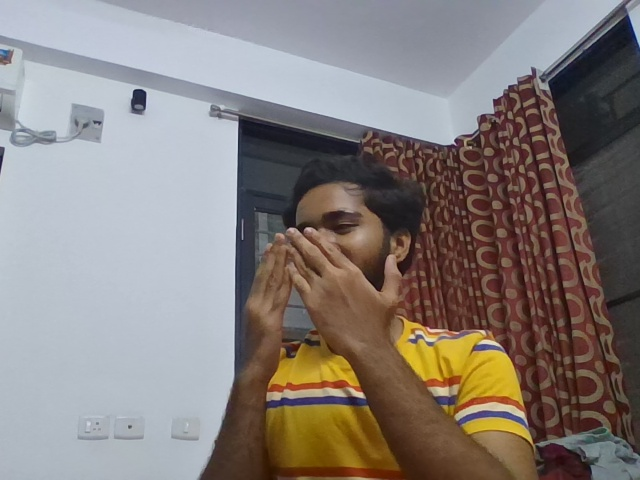Thank You: (223, 220, 422, 377)
